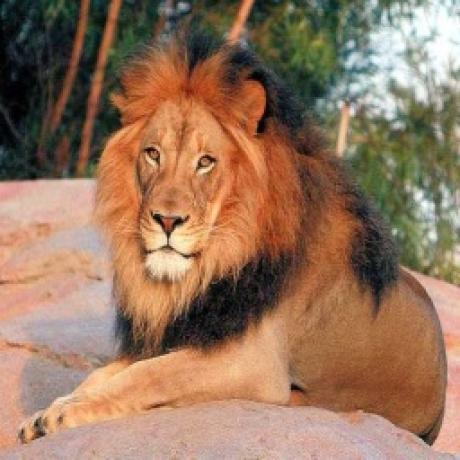Lion: (19, 16, 449, 449)
